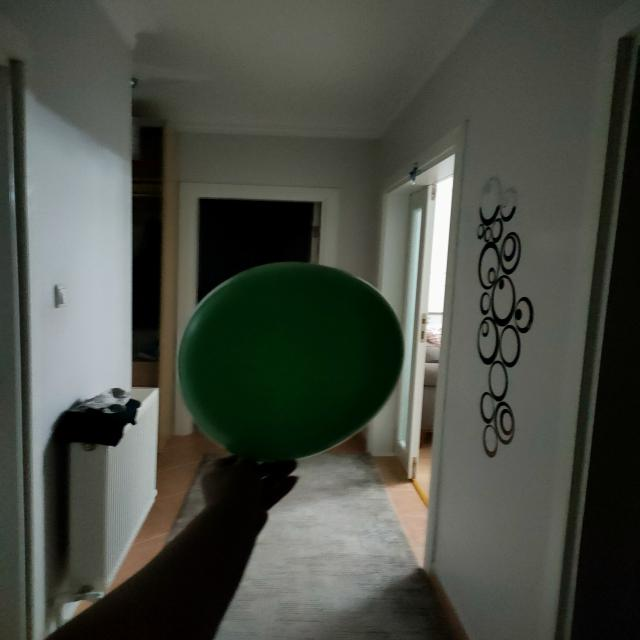green: (182, 262, 408, 462)
